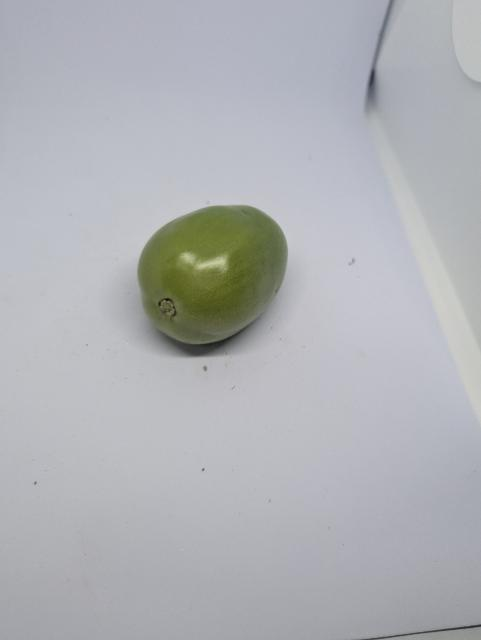green: (123, 170, 297, 369)
